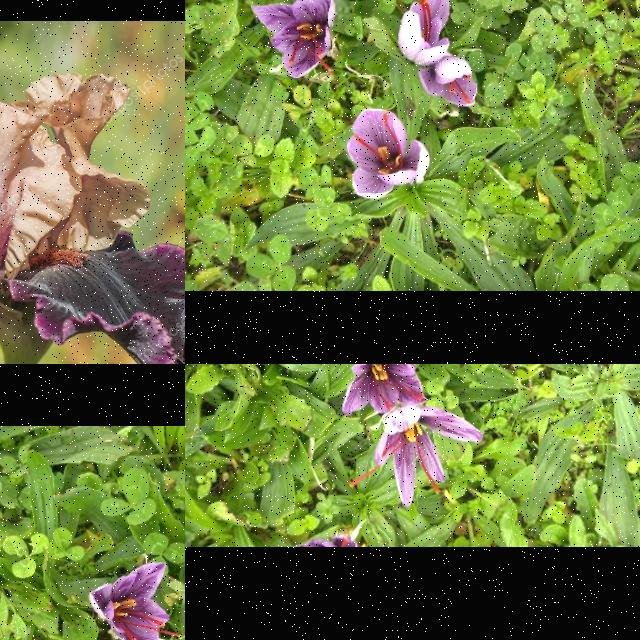flower: (348, 407, 484, 508), (348, 110, 430, 200), (89, 562, 180, 640), (251, 0, 337, 78), (342, 364, 426, 417), (397, 0, 451, 67), (418, 56, 478, 106)
